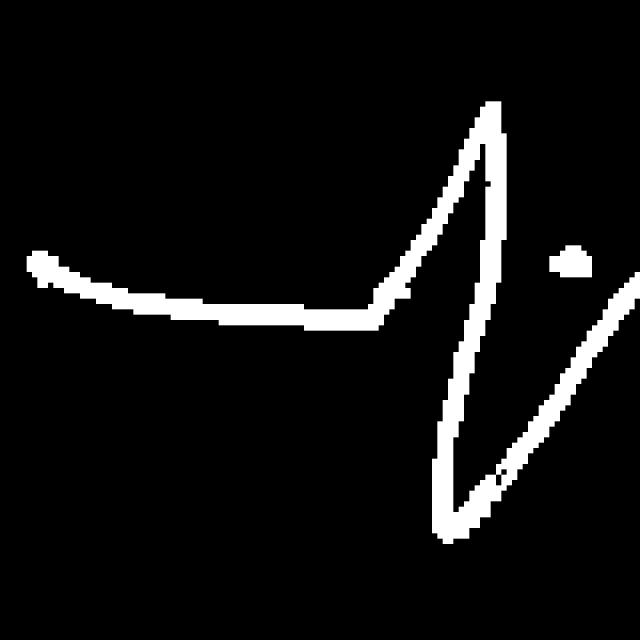resistor: (359, 59, 636, 558)
